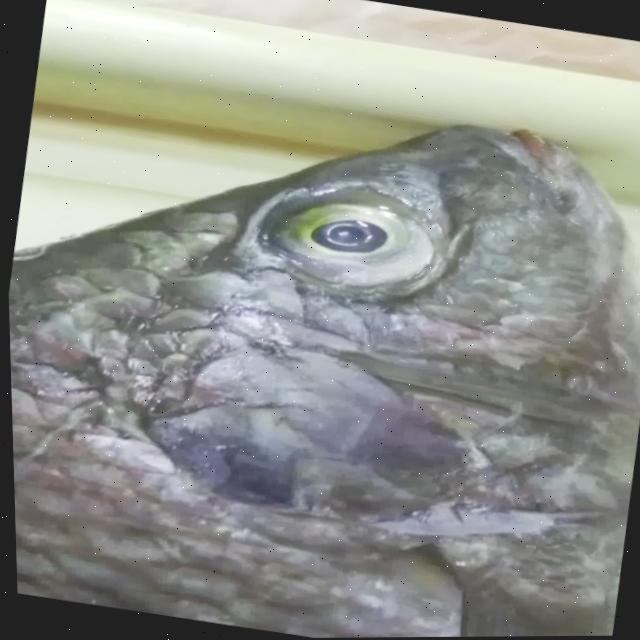Non-Fresh: (210, 145, 494, 335)
